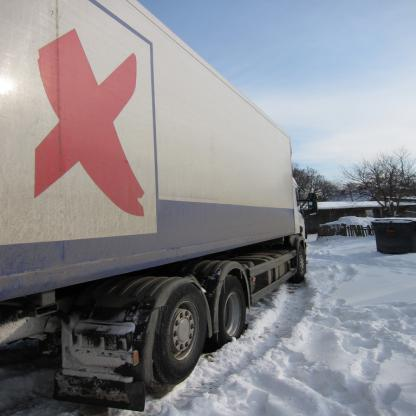Truck: (11, 0, 311, 405)
